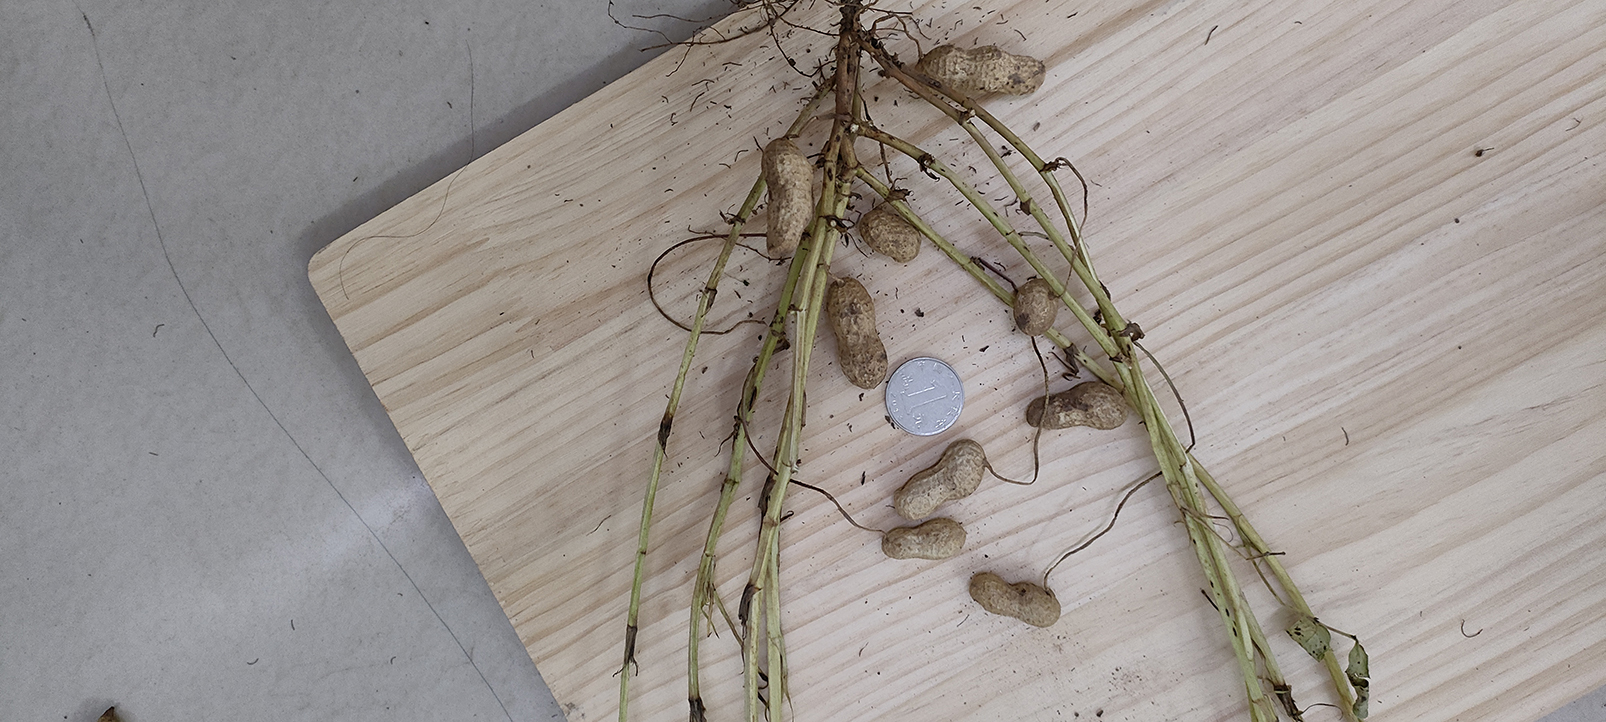h: (894, 441, 987, 522), (917, 44, 1046, 100), (829, 278, 888, 388), (764, 138, 815, 261), (965, 570, 1062, 627), (882, 518, 968, 561), (861, 208, 920, 264), (1012, 278, 1058, 337)
l: (1024, 384, 1127, 430)
